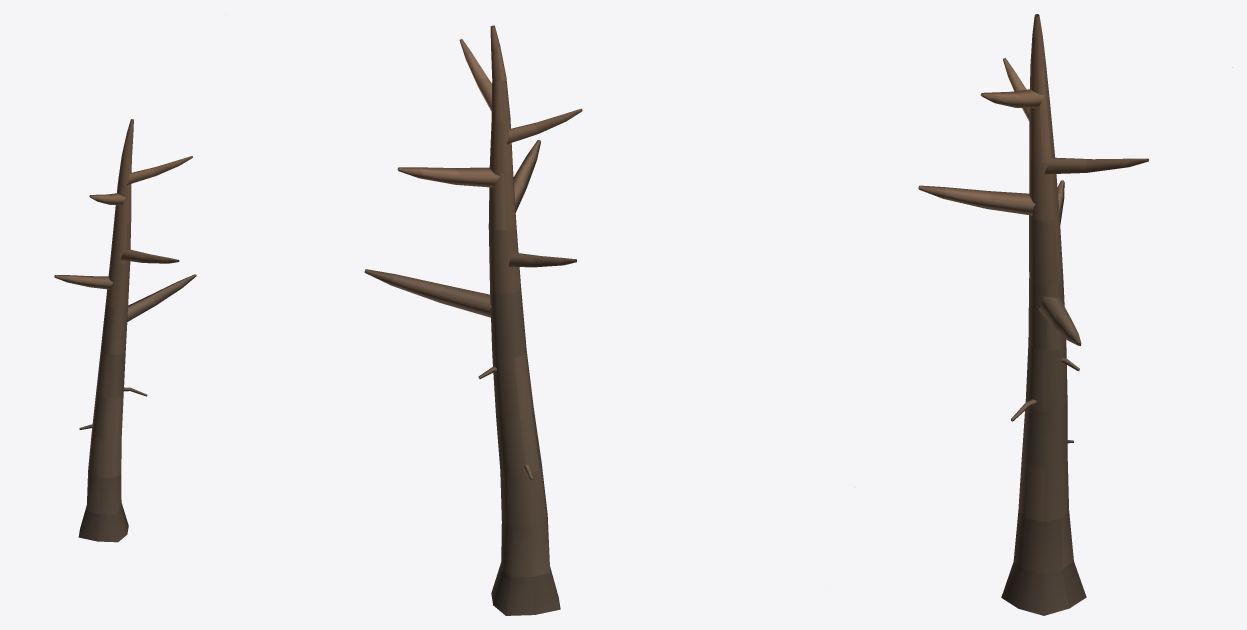
File: ShorePine2_bark.glb
3 views of the same model, side by side, from view 1: azimuth 30°, elevation 25°; view 2: azimuth 150°, elevation 25°; view 3: azimuth 270°, elevation 25° (orthographic). The views are drawn at different scales.
Visible parts, largest first — view 1: ShorePine2_bark; view 2: ShorePine2_bark; view 3: ShorePine2_bark.
Part boxes in pixels (left/top/right/bottom): ShorePine2_bark: left=54, top=119, right=196, bottom=542; ShorePine2_bark: left=364, top=25, right=582, bottom=615; ShorePine2_bark: left=918, top=14, right=1232, bottom=615.
Size of the model in its own units: 15.11 by 20.45 by 10.93.
